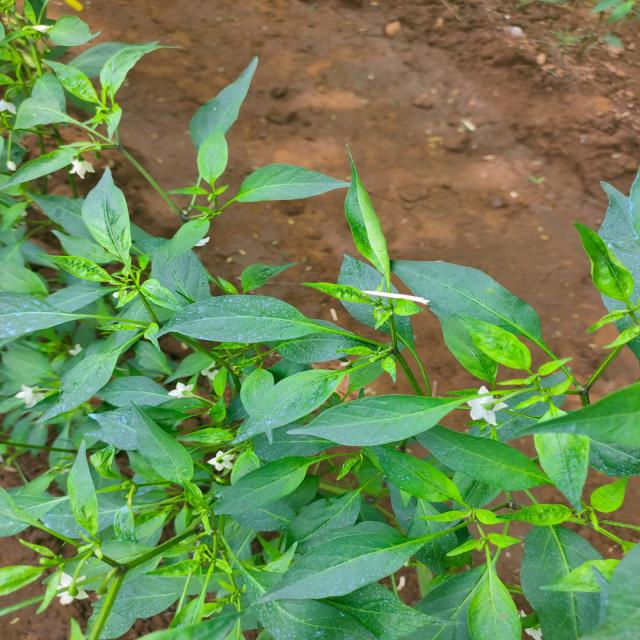Mosaic_virus: (234, 216, 640, 640), (0, 0, 243, 640)
